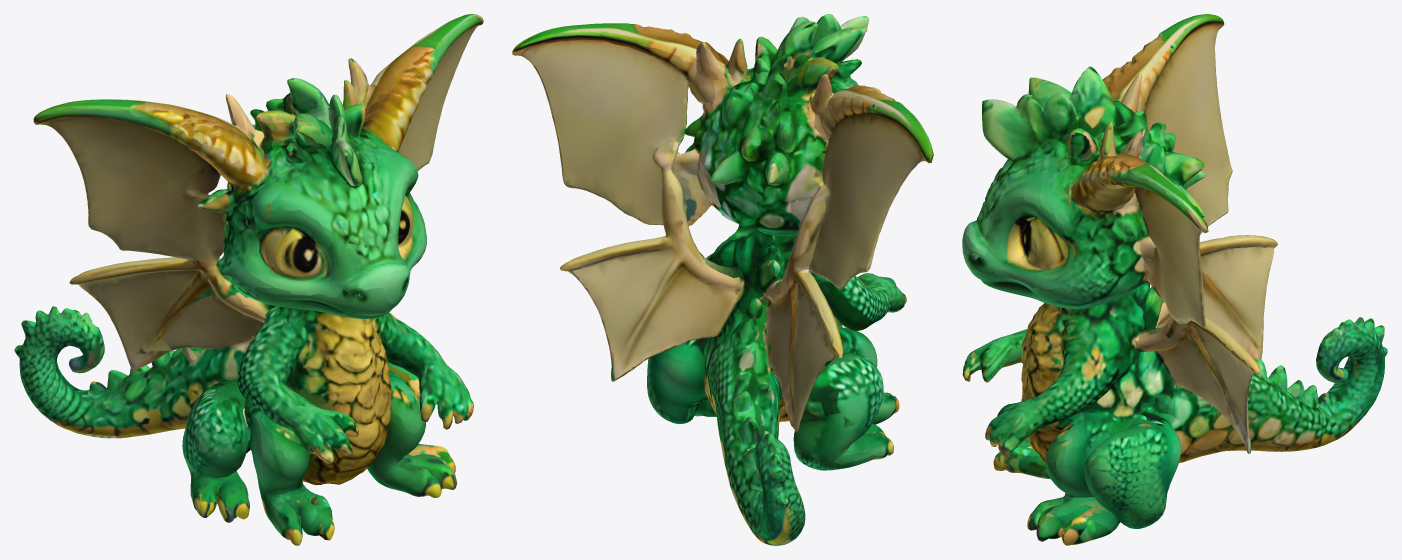
The picture shows the model from 3 angles, left to right: view 1: azimuth 30°, elevation 25°; view 2: azimuth 150°, elevation 25°; view 3: azimuth 270°, elevation 25°; orthographic projection. The views are drawn at different scales.
Parts seen in each view (by area): view 1: textured; view 2: textured; view 3: textured.
Boxes of the visible parts, x1=… form: textured: x1=14, y1=14, x2=483, y2=545; textured: x1=512, y1=14, x2=933, y2=545; textured: x1=962, y1=14, x2=1387, y2=545.
Size of the model in its own units: 1.99 by 1.85 by 1.73.
1 material, 1 textured.
